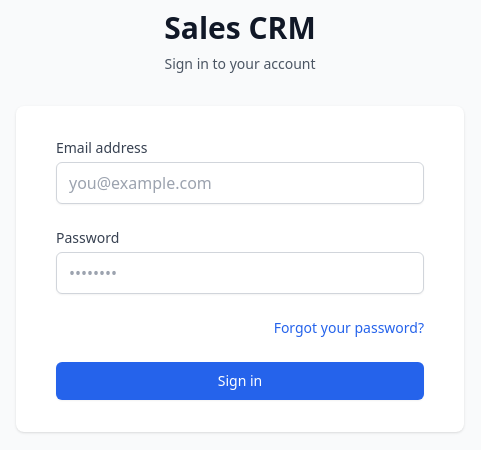
LoginPage › disables the button and shows loading text while submitting
Type "a@b.com" into the field labelled "Email address".
click(240, 183); type("a@b.com")  # box [56,162,424,204]
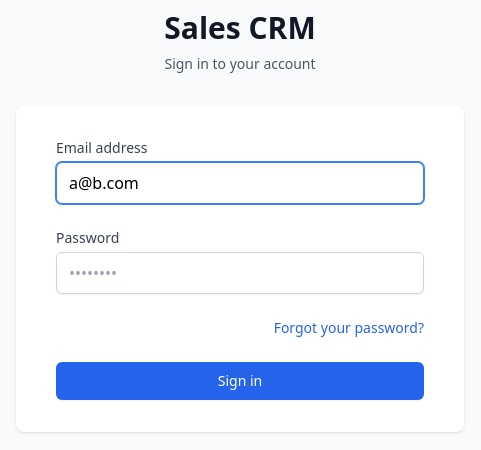
Type "Pass99" into the password field labelled "Password".
click(240, 273); type("Pass99")  # box [56,252,424,294]
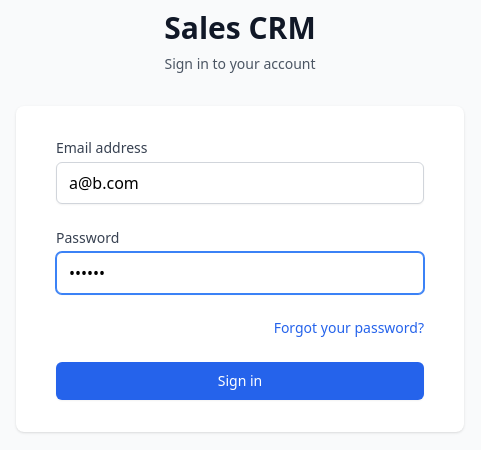
Click the button "Sign in".
click(240, 381)  # box [56,362,424,400]
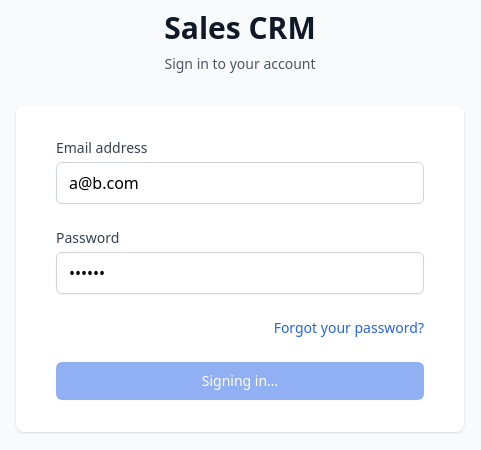
Now the button "Signing in…" is disabled, box [56,362,424,400]
